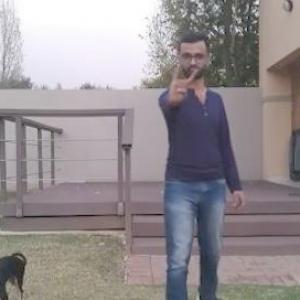takeoff-hand: (156, 51, 198, 109)
